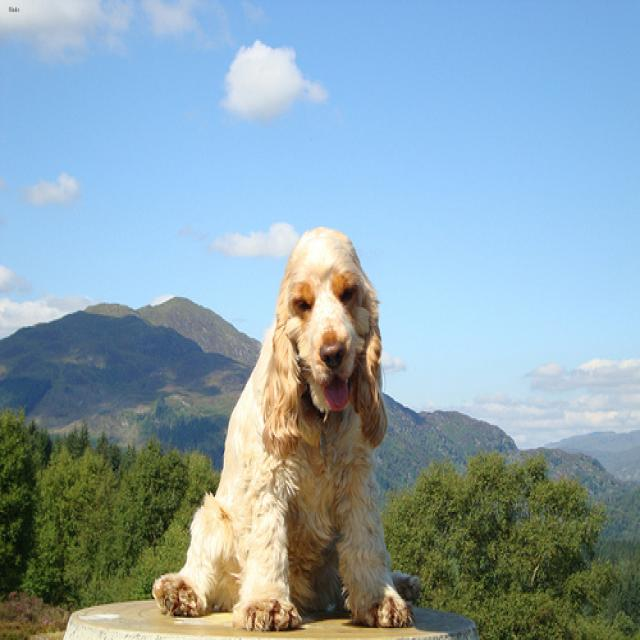dog-english_cocker_spaniel: (140, 212, 430, 637)
